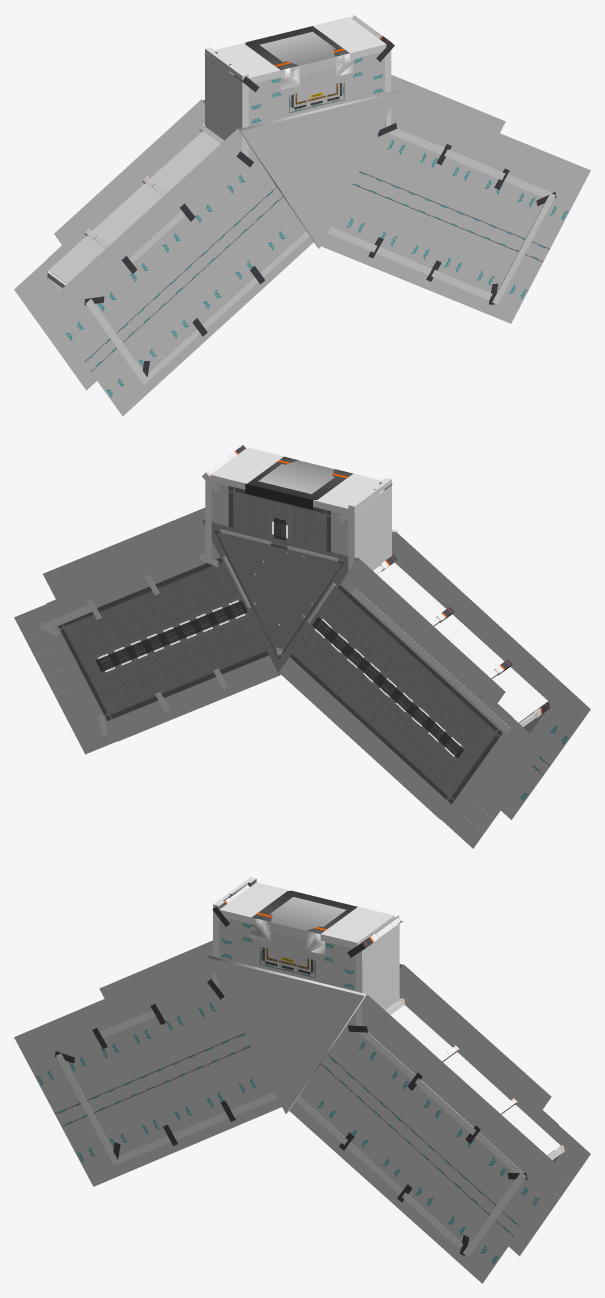
Rendered from ENV_Room1Layout.fbx.
3 renders of one model, top to bottom at view 1: azimuth 30°, elevation 25°; view 2: azimuth 150°, elevation 25°; view 3: azimuth 330°, elevation 25°, orthographic.
Visible parts, largest first — view 1: Room1; view 2: Room1; view 3: Room1.
Boxes of the visible parts, bbox=[...] form: Room1: bbox=[14, 14, 590, 416]; Room1: bbox=[14, 445, 590, 848]; Room1: bbox=[14, 877, 590, 1283].
Size of the model in its own units: 12817 by 7011 by 1640.
Materials: 20 (17 with a texture image).
